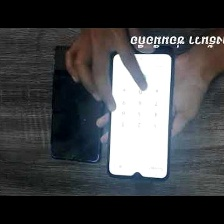phone: (102, 46, 176, 183), (45, 37, 109, 167)
